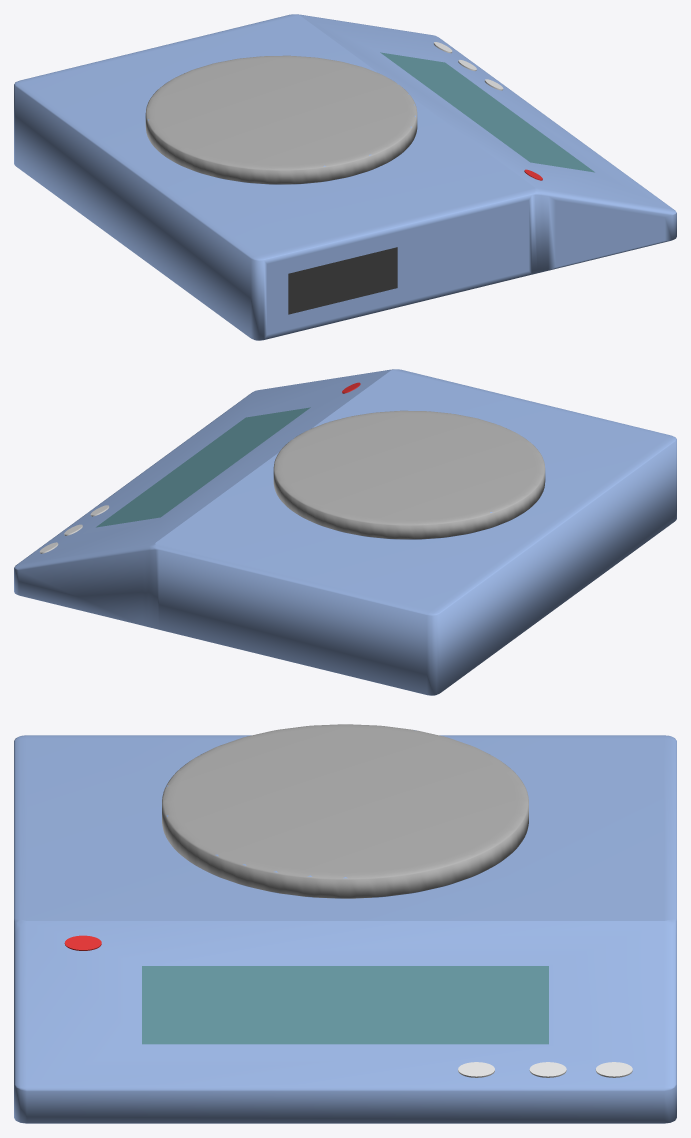
Rendered from Scale2.fbx.
3 renders of one model, top to bottom at view 1: azimuth 30°, elevation 25°; view 2: azimuth 150°, elevation 25°; view 3: azimuth 270°, elevation 25°, orthographic. The views are drawn at different scales.
Parts seen in each view (by area): view 1: Cube; view 2: Cube; view 3: Cube.
Part boxes in pixels (x1,y1,x2,y2): Cube: [14, 14, 676, 340]; Cube: [14, 369, 676, 695]; Cube: [14, 724, 676, 1123].
Bounding box in the file's own units: 200 × 51.85 × 200.
